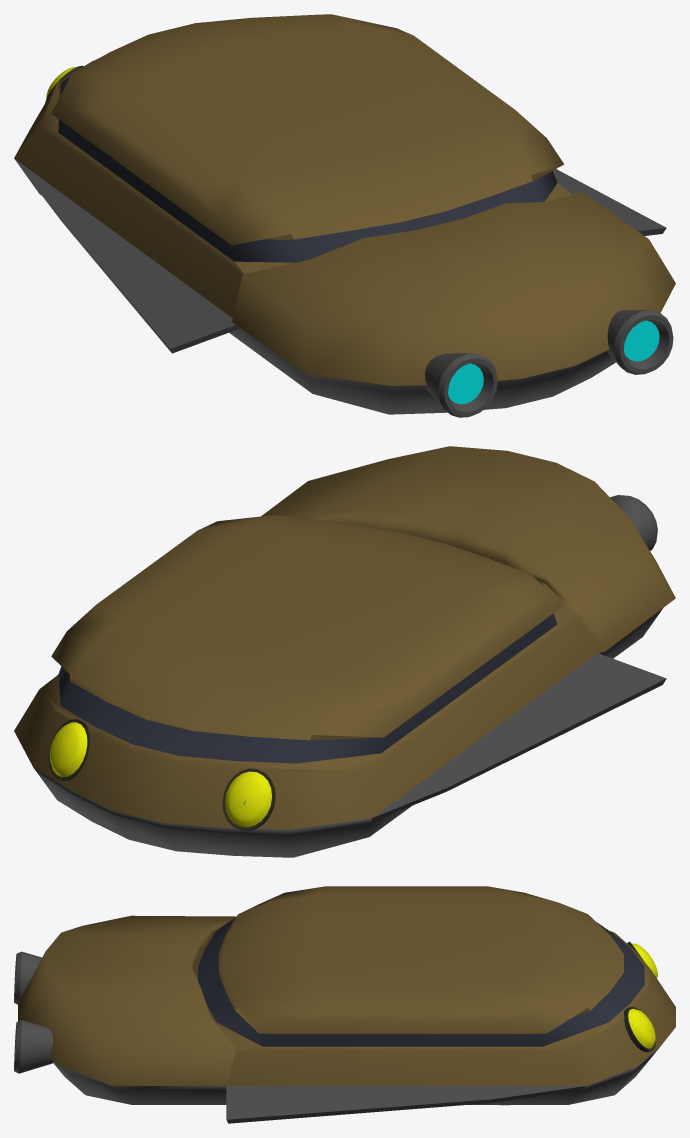
Rendered from Ship3.fbx.
3 views of the same model, one above another, from view 1: azimuth 30°, elevation 25°; view 2: azimuth 150°, elevation 25°; view 3: azimuth 270°, elevation 25° (orthographic). The views are drawn at different scales.
Visible parts, largest first — view 1: pCube1, pasted__pCylinder1, pCylinder1; view 2: pCube1, pasted__pasted__pasted__pCylinder2, pasted__pasted__pCylinder2, pasted__pCylinder1; view 3: pCube1, pCylinder1, pasted__pasted__pCylinder2, pasted__pCylinder1.
Boxes of the visible parts, bbox=[...] form: pCube1: bbox=[14, 14, 675, 414]; pasted__pCylinder1: bbox=[425, 353, 497, 417]; pCylinder1: bbox=[607, 310, 673, 374]; pCube1: bbox=[14, 446, 675, 857]; pasted__pasted__pasted__pCylinder2: bbox=[222, 768, 275, 831]; pasted__pasted__pCylinder2: bbox=[48, 719, 89, 780]; pasted__pCylinder1: bbox=[610, 495, 657, 550]; pCube1: bbox=[18, 886, 675, 1123]; pCylinder1: bbox=[14, 1020, 53, 1073]; pasted__pasted__pCylinder2: bbox=[624, 1006, 655, 1052]; pasted__pCylinder1: bbox=[14, 951, 41, 1004].
Bounding box in the file's own units: 10.48 × 2.97 × 15.18.
